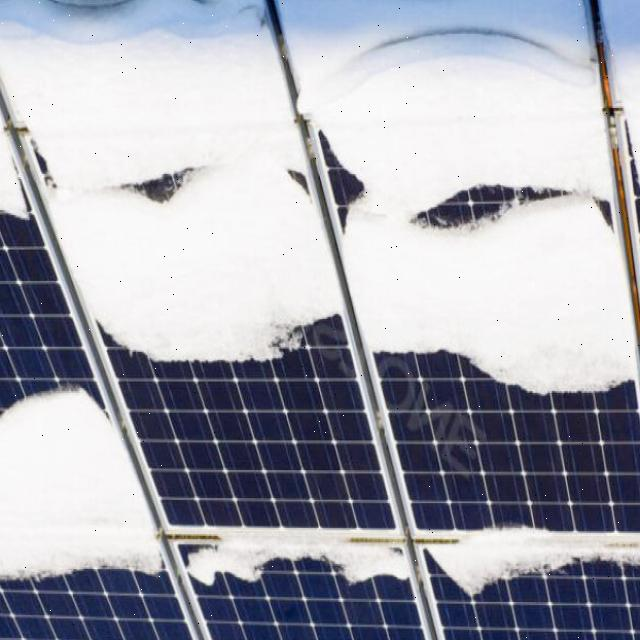Snow: (276, 0, 638, 399), (0, 383, 162, 588), (424, 505, 640, 604), (184, 526, 406, 590), (0, 116, 29, 230)
